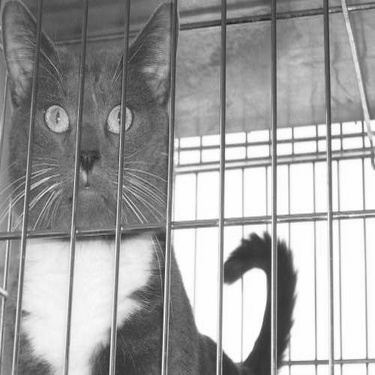cat: (1, 3, 308, 374)
